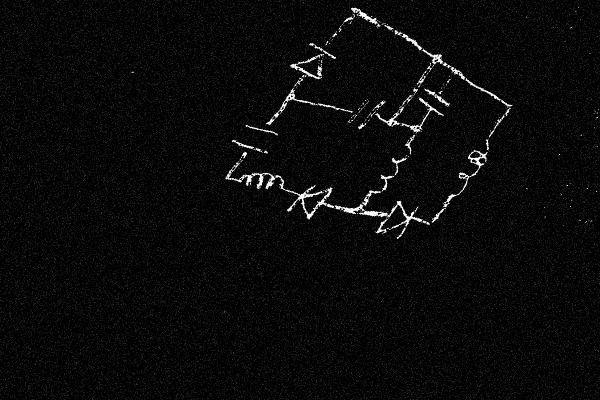capacitor: (223, 109, 286, 169), (340, 89, 392, 136), (415, 78, 457, 127)
diode: (367, 191, 427, 249), (284, 32, 342, 92), (280, 173, 339, 228)
inductor: (435, 129, 505, 205), (355, 137, 424, 202), (234, 156, 289, 209)
